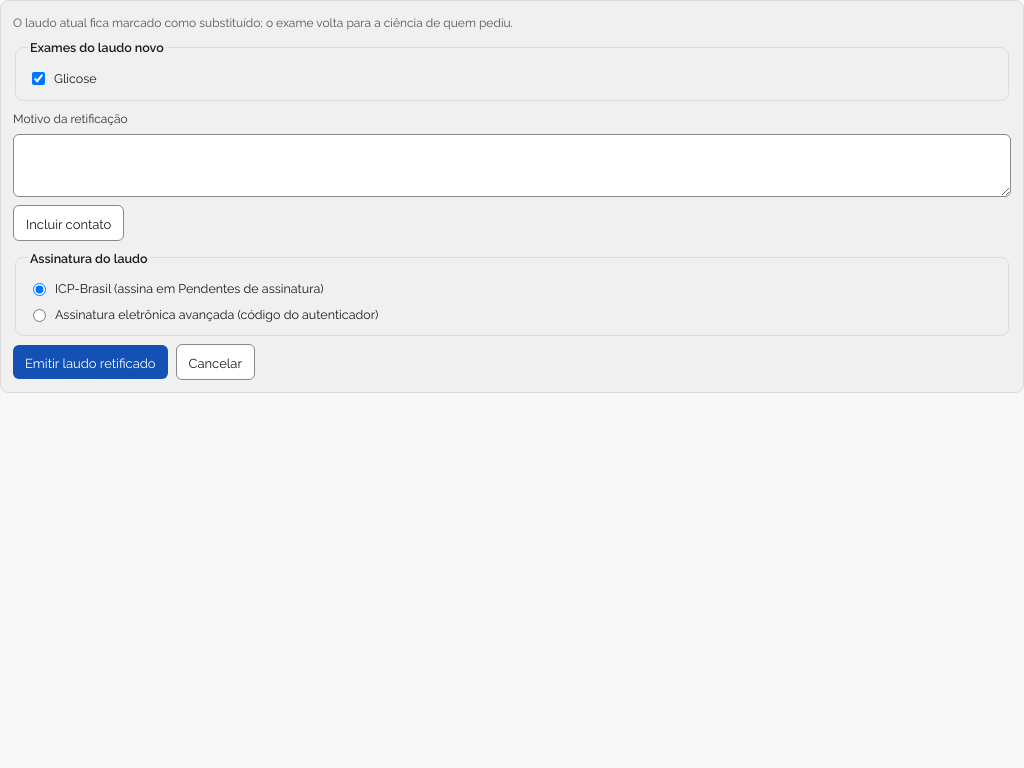
it: RectifyForm — itens, erros de assinatura e guarda › signature_unavailable: some a ICP e passa à avançada
The width and height of the screenshot is (1024, 768).
Step 1. Type "valor de glicose digitado trocado" into the text box labelled "Motivo da retificação" → (512, 165), box [13,134,1011,197]
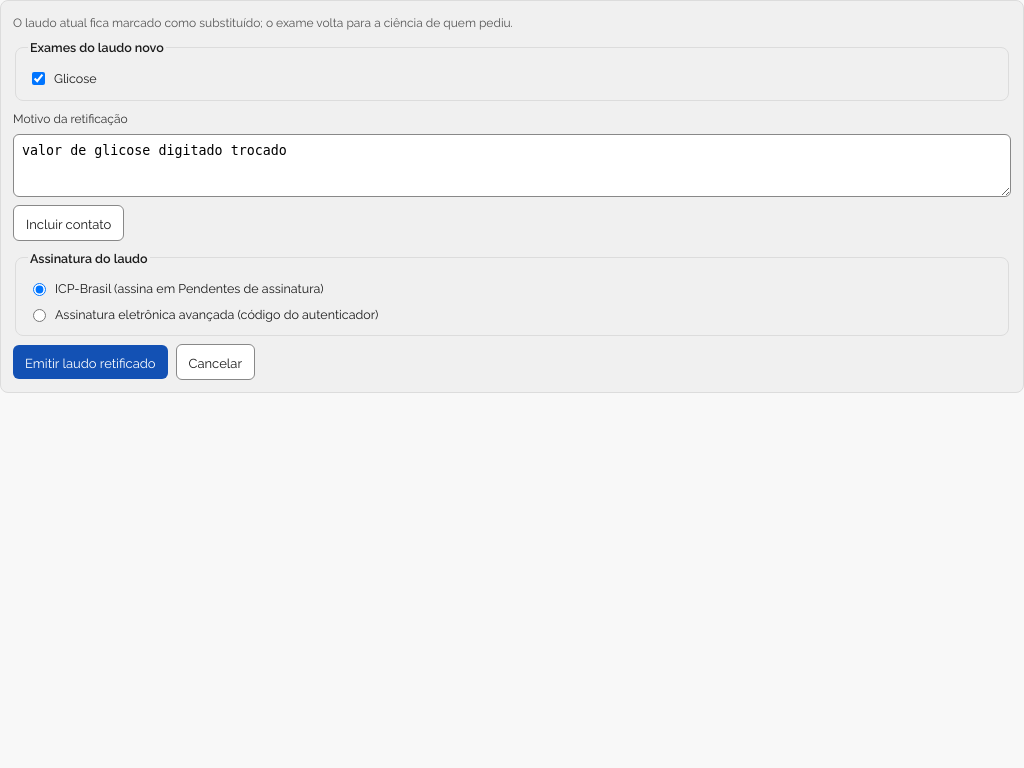
Step 2. Click the button "Incluir contato" → (69, 223), box [13,205,124,241]
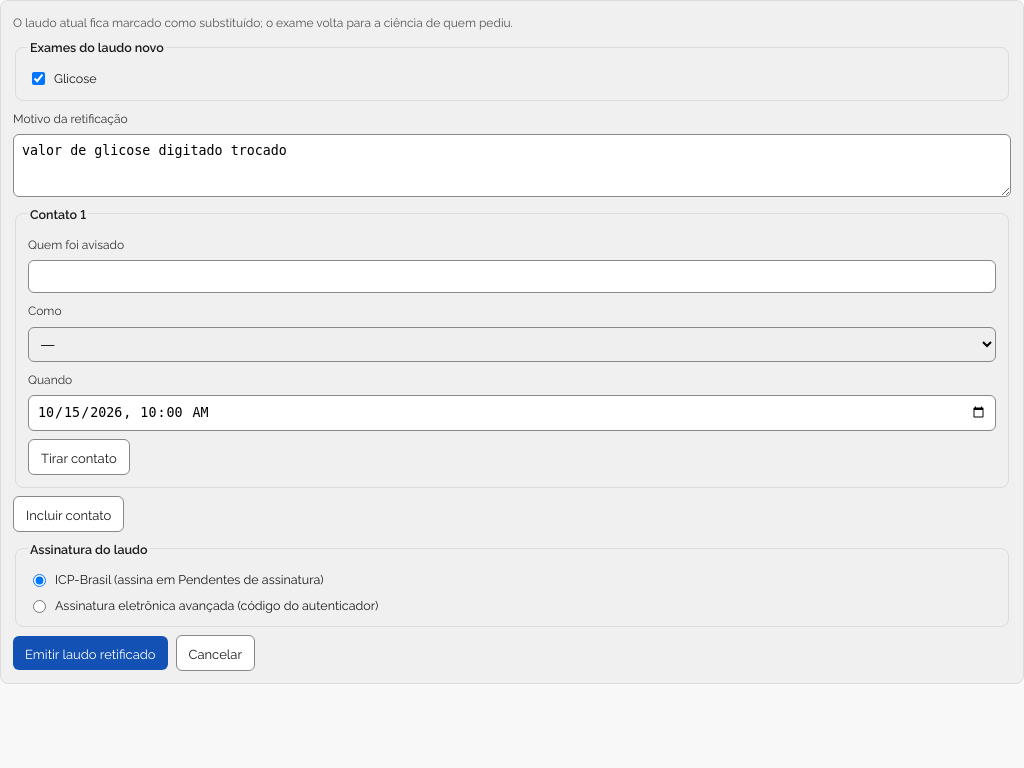
Step 3. Type "Dra. Ana" into the field labelled "Quem foi avisado" → (512, 277), box [28,260,996,293]
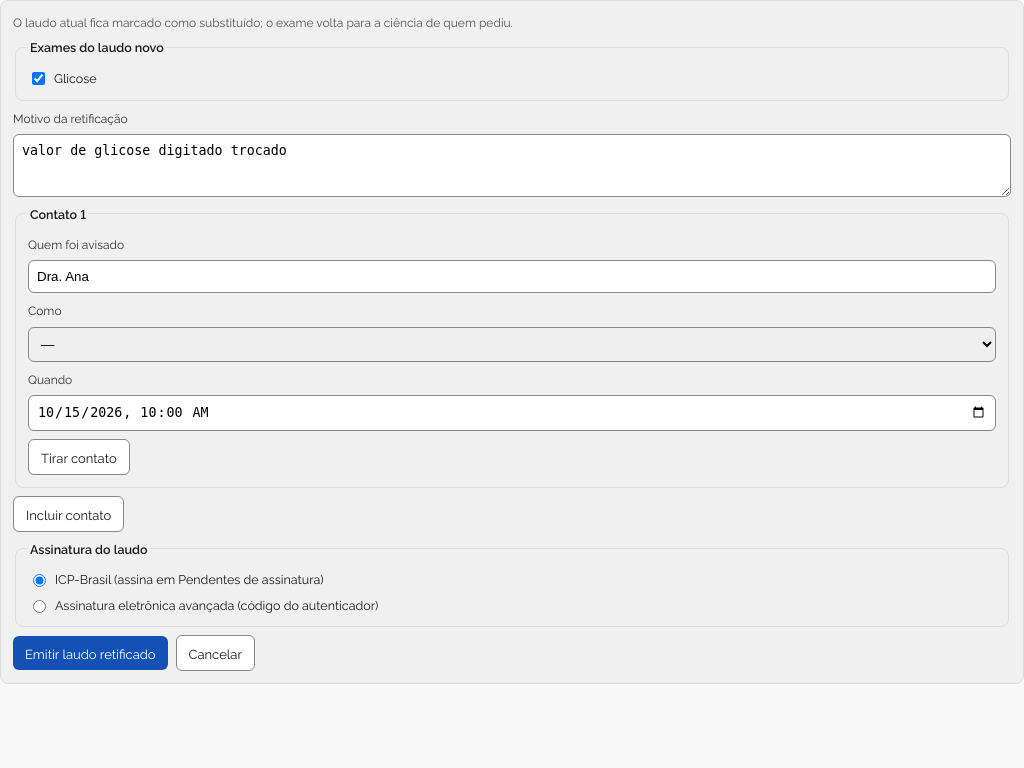
Step 4. Select "Telefone" in the dropdown labelled "Como" → (512, 344), box [28,327,996,362]
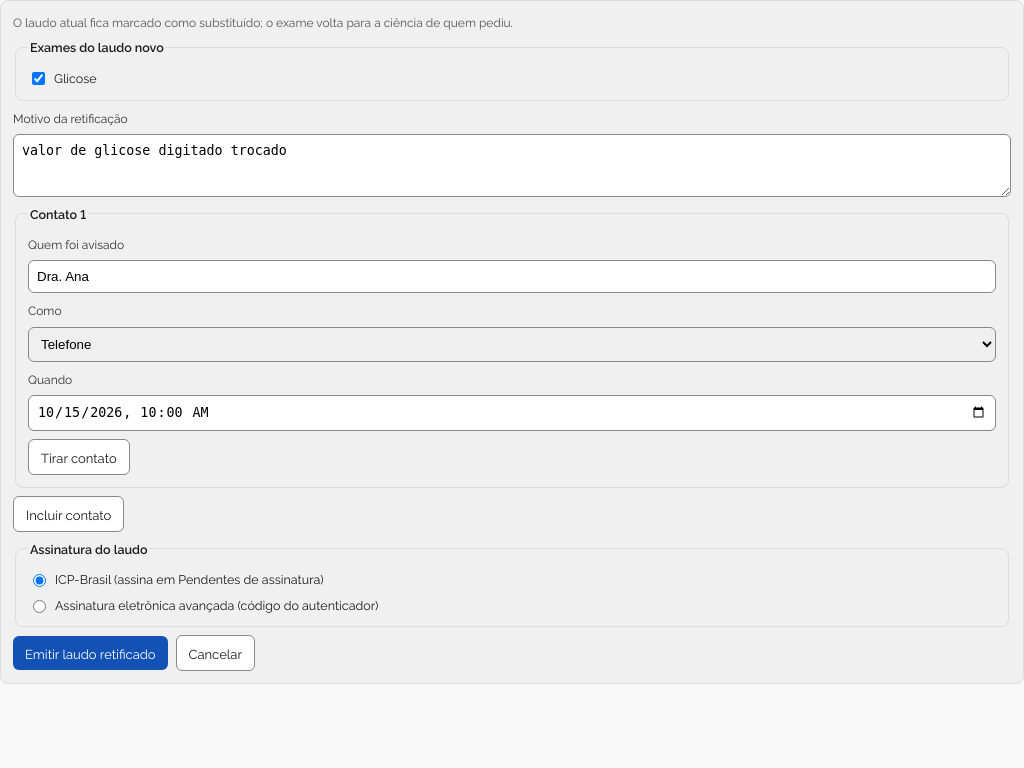
Step 5. Replace the text in the field labelled "Quando" with "2026-10-15T09:00" → (512, 413), box [28,395,996,430]
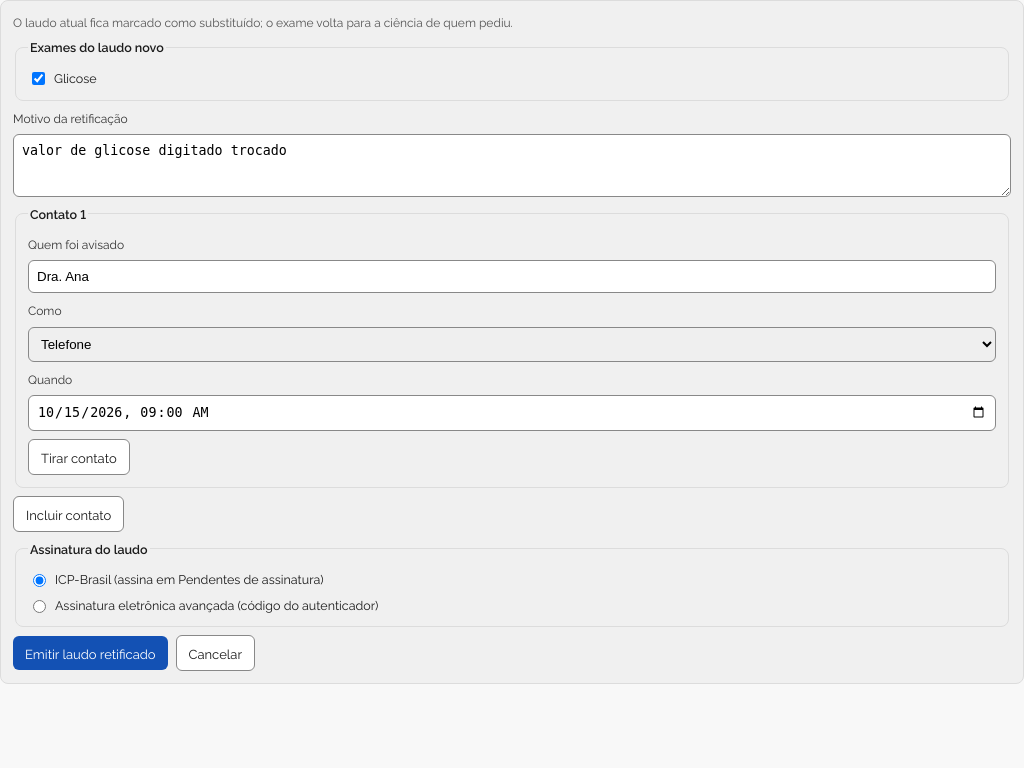
Expected: the radio button labelled "ICP-Brasil (assina em Pendentes de assinatura)" is shown, [33,574,46,587]
Step 6. Click the button "Emitir laudo retificado" → (90, 653), box [13,636,168,670]
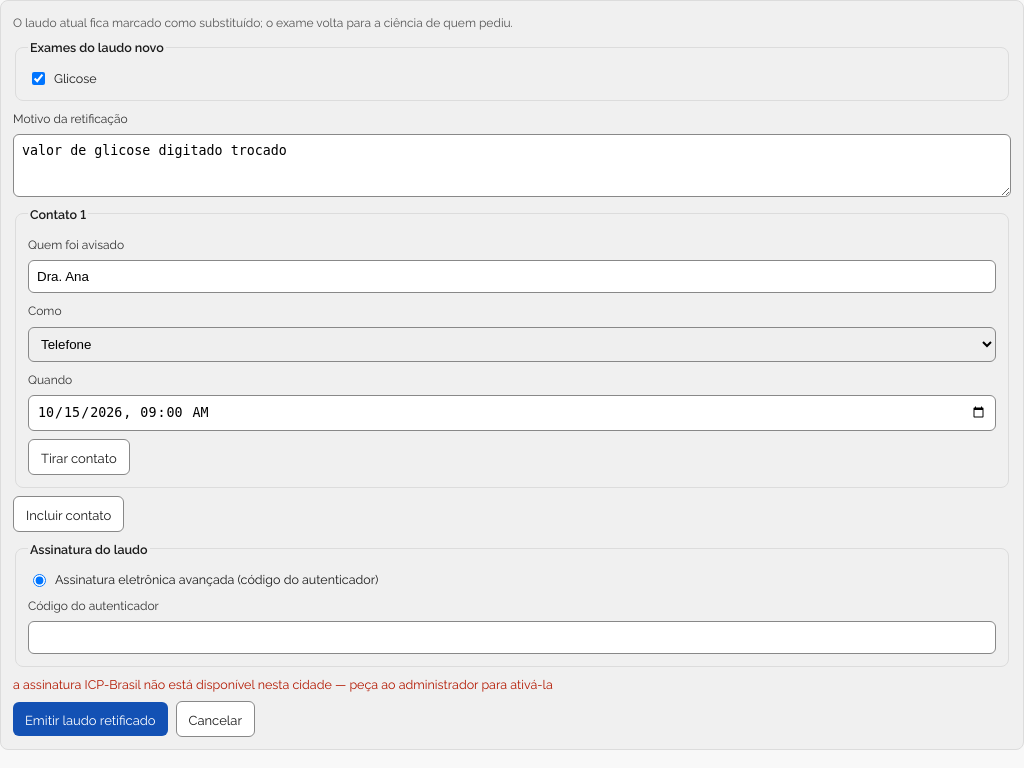
Expected: the radio button labelled "Assinatura eletrônica avançada (código do autenticador)" is checked, [33,574,46,587]
Now the message shows "a assinatura ICP-Brasil não está disponível nesta cidade — peça ao administrador para ativá-la", box [13,675,553,692]
Now the label labelled "ICP-Brasil (assina em Pendentes de assinatura)" is gone
